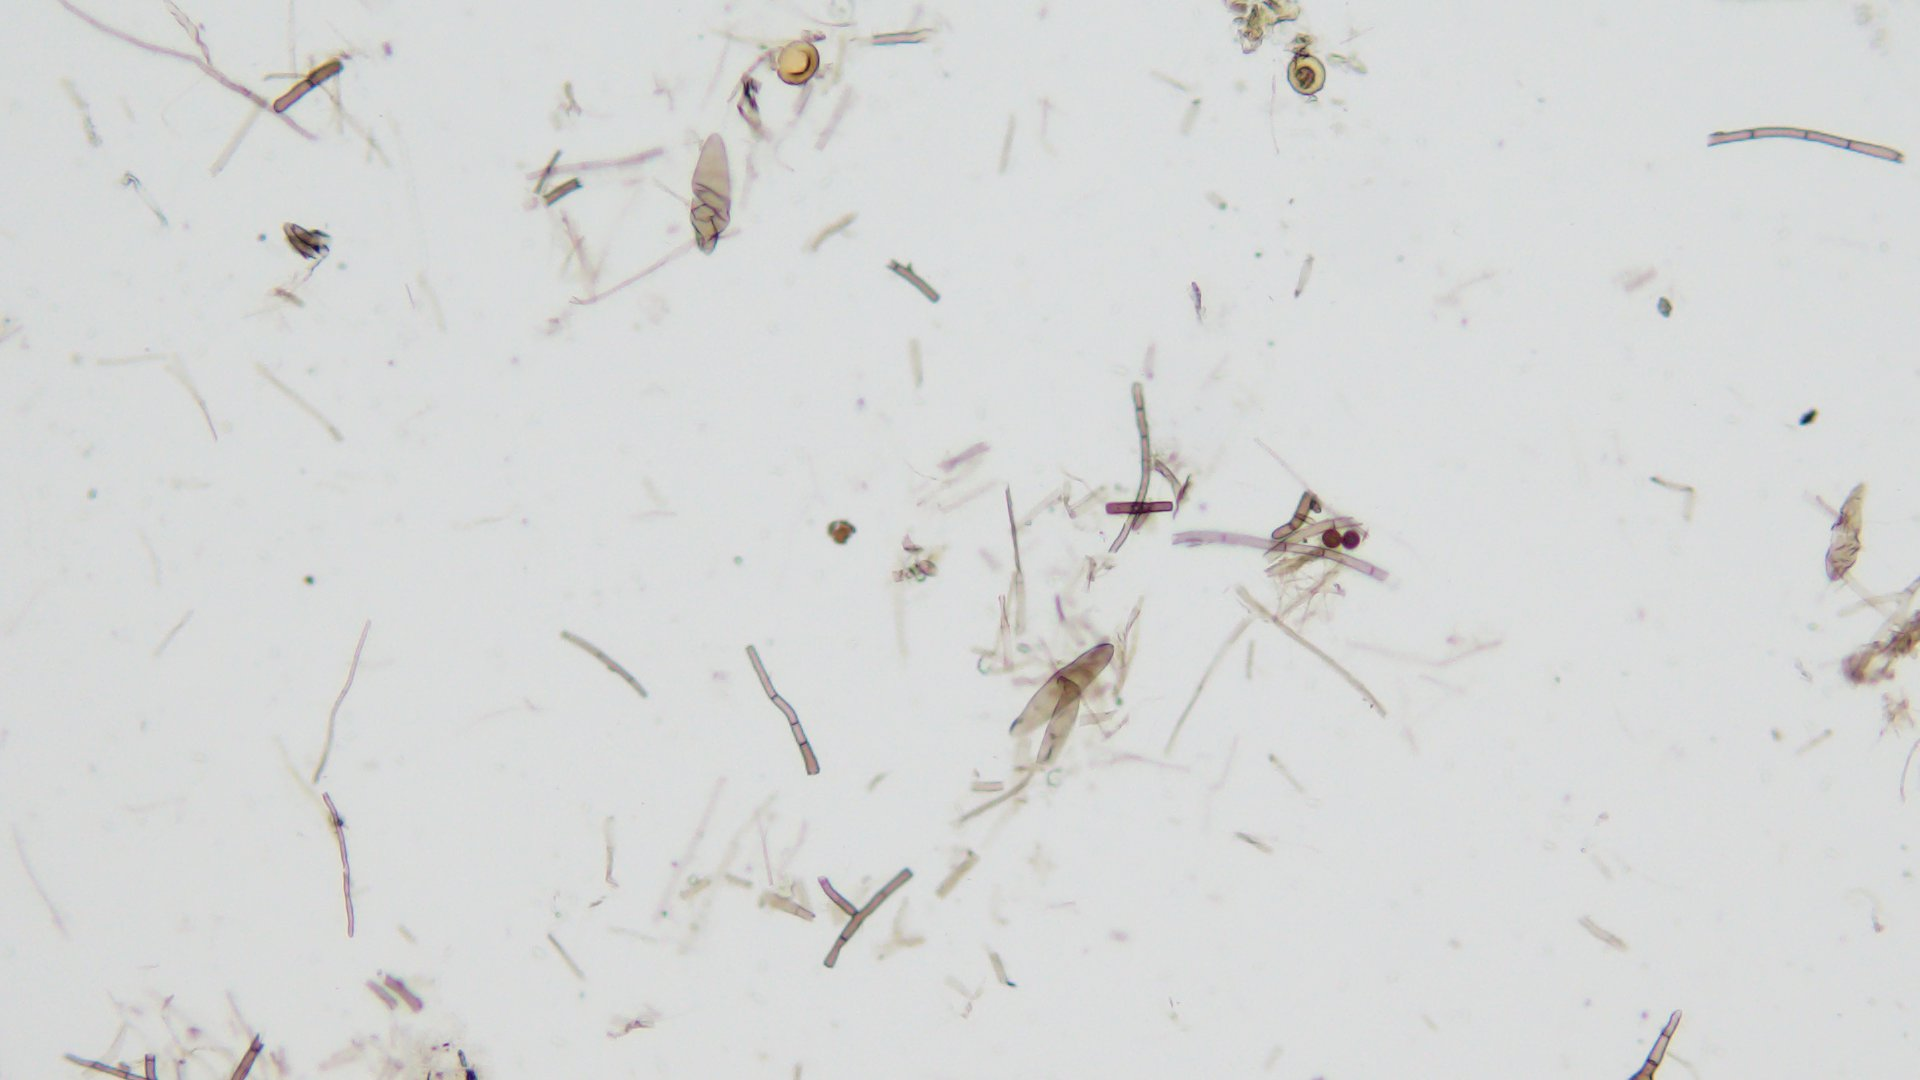dbb_spore: (1006, 650, 1124, 738), (688, 135, 738, 255), (1042, 680, 1088, 767)
shs_spore: (1342, 530, 1361, 553), (1321, 531, 1340, 549)
xb_spore: (775, 44, 822, 86), (1288, 51, 1328, 98)
